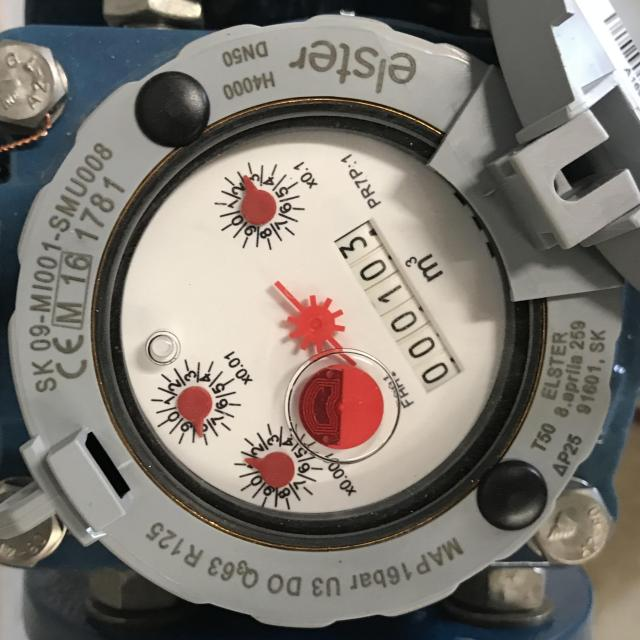gaz_meter: (94, 97, 540, 540)
indication: (318, 215, 464, 394)
